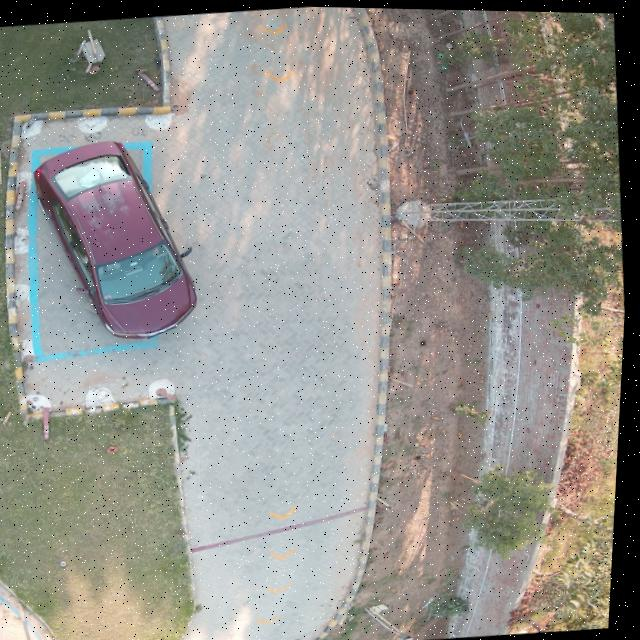car: (32, 139, 201, 339)
